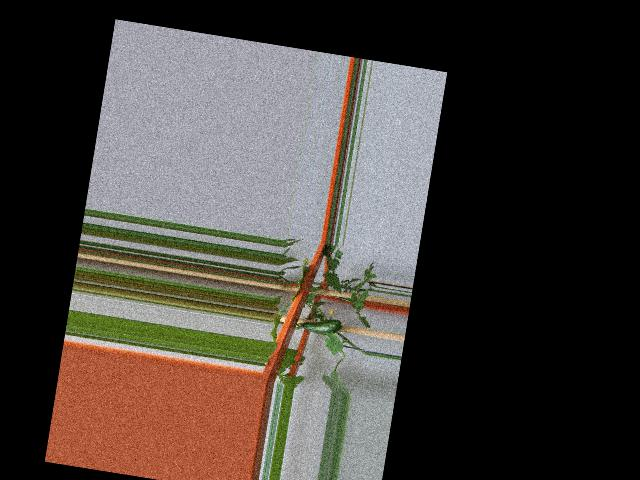cucumber: (302, 314, 346, 337)
